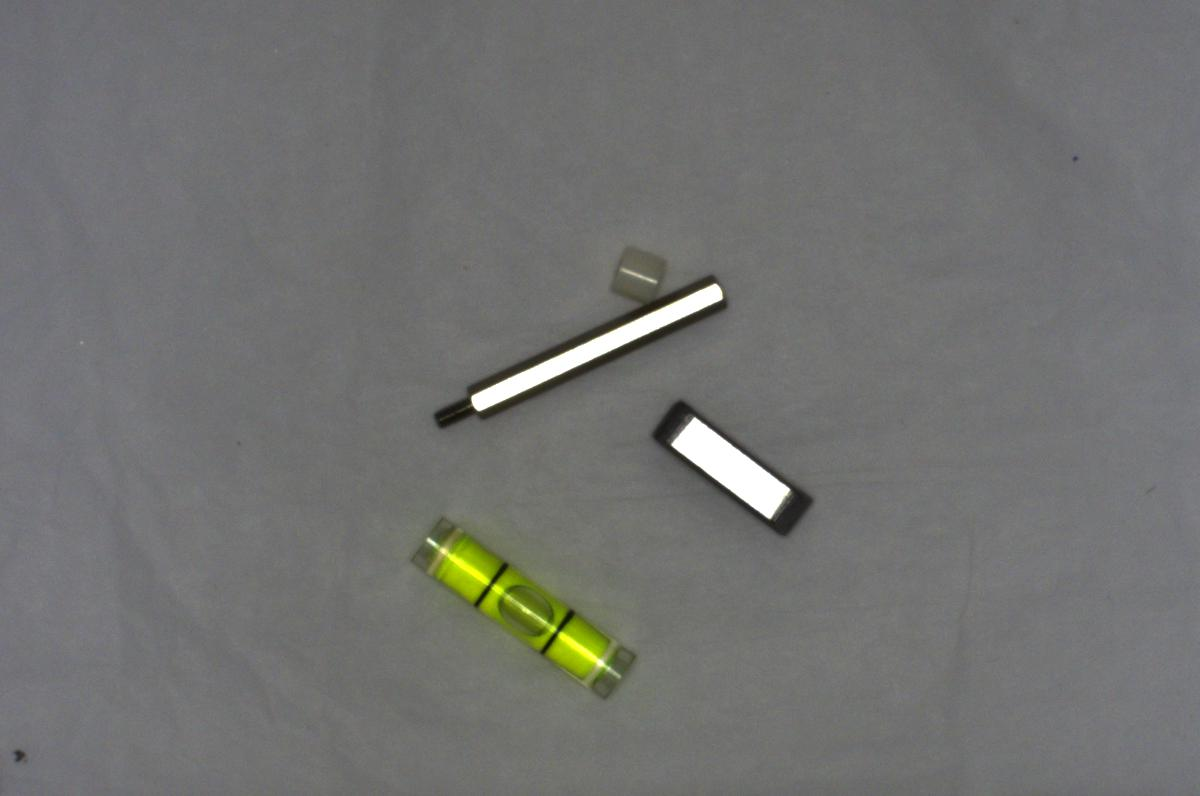Hexagonal steel column: (435, 266, 733, 423)
Horizontal bubble: (406, 515, 638, 706)
Keybar: (651, 400, 808, 539)
Plastic cushion pillar: (602, 243, 671, 302)
